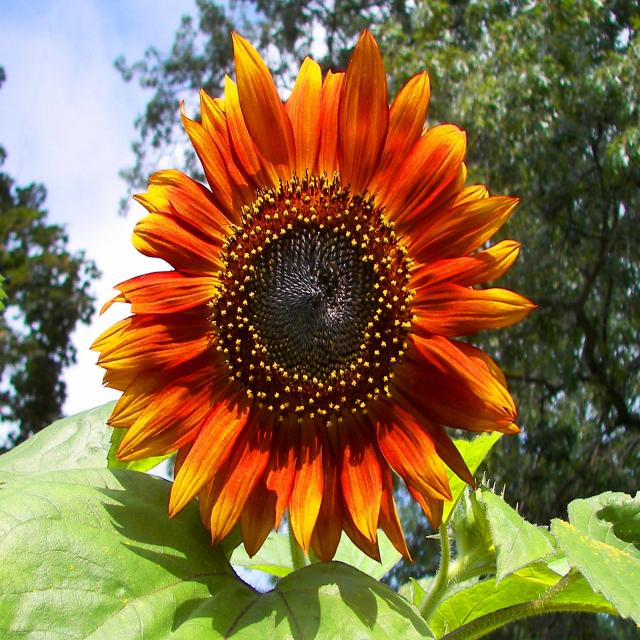sunflower: (89, 33, 536, 568)
